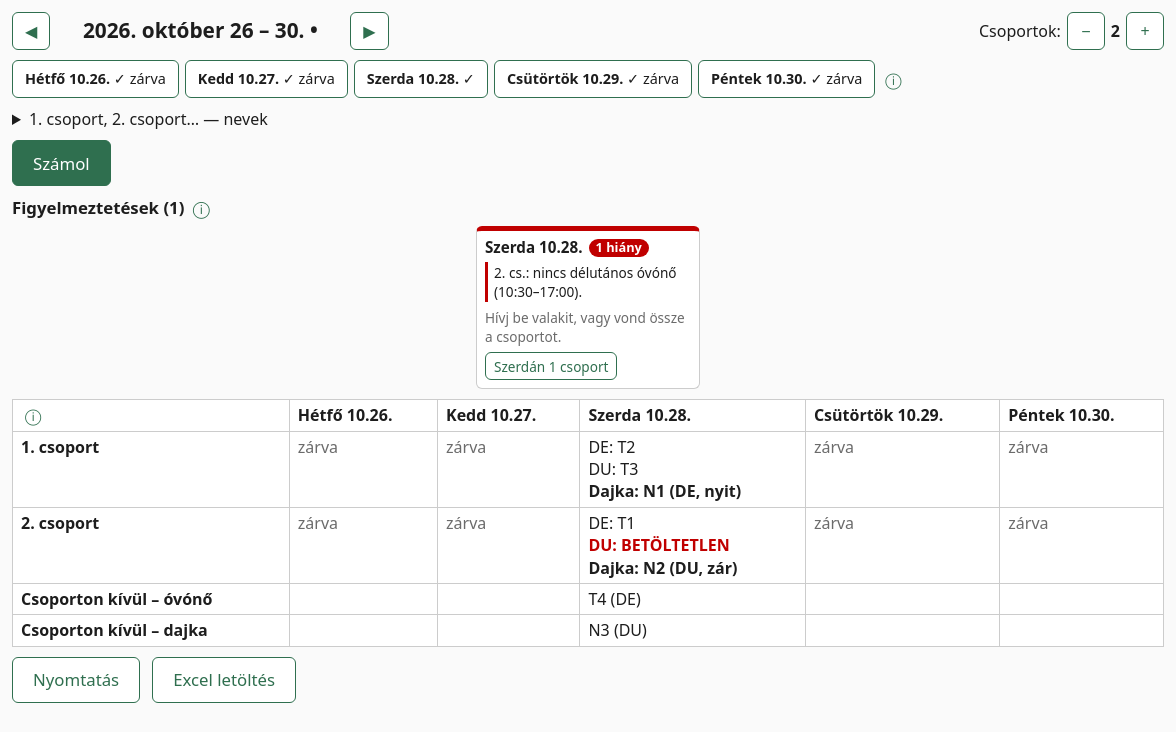
it: RosterScreen swap › floats the pick bar and a refusal in the dock, so the page above the table never moves
Click the text "Dajka: N1 (DE, nyit)" at (665, 492), box [588,480,741,502]
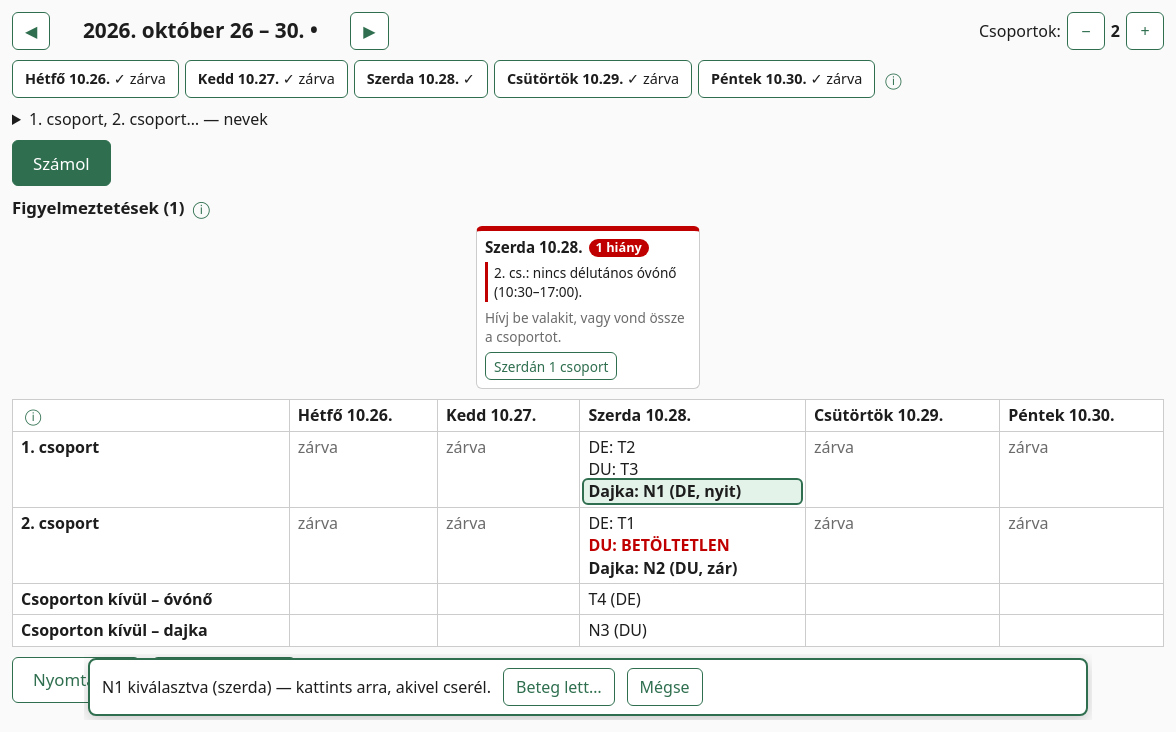
Check: the text "kiválasztva" is shown, box [102,676,491,698]
Click the text "T4 (DE)" at (615, 599), box [588,588,641,610]
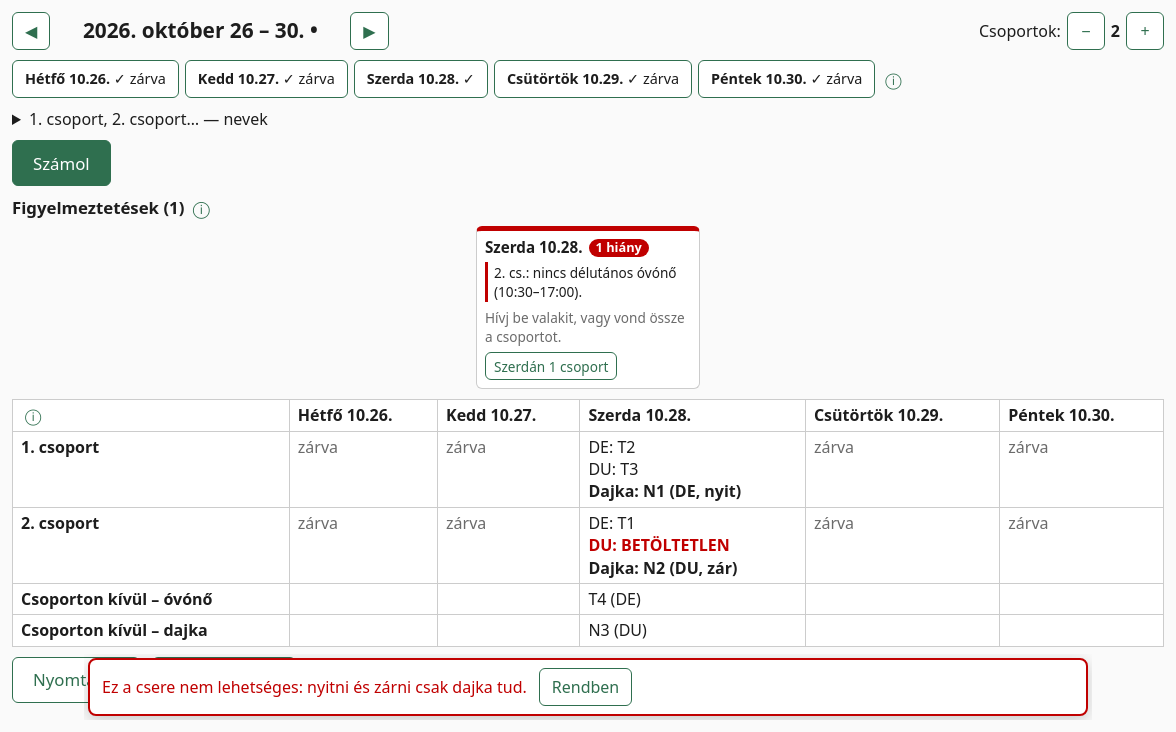
Check: the text "kiválasztva" is shown, box [84,654,1092,720]
Click the button "Rendben" at (586, 687), box [539,668,632,706]
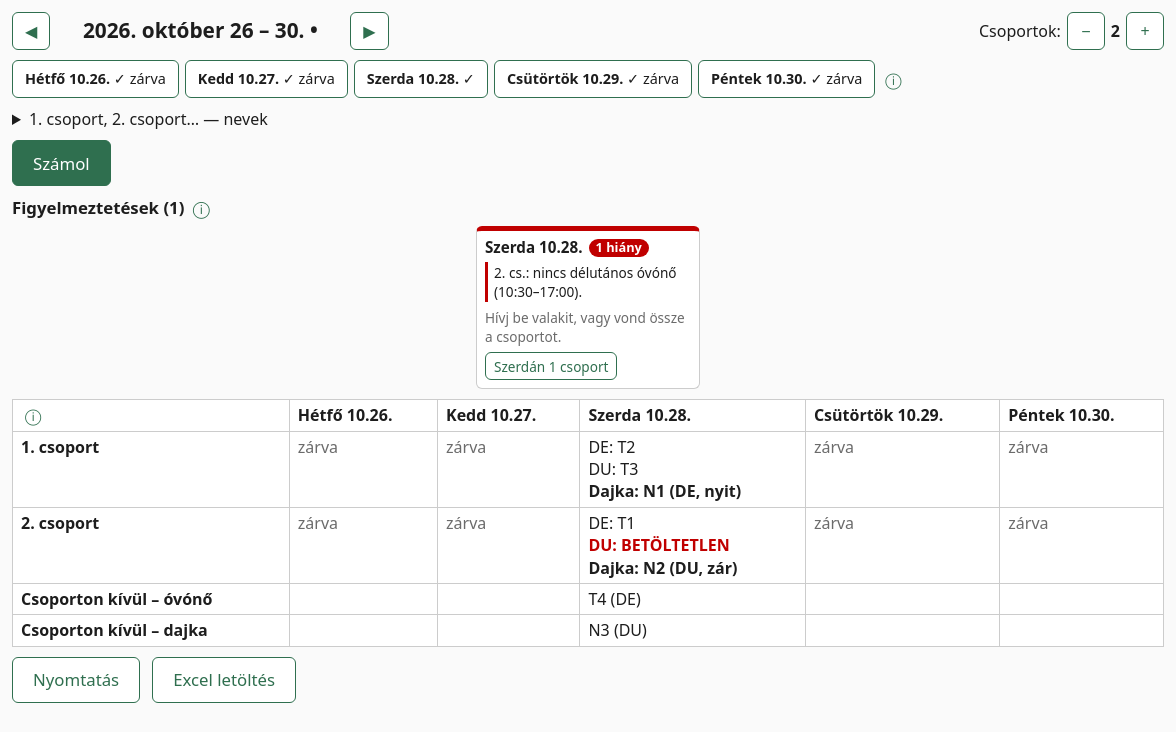
Check: the text "Ez a csere nem lehetséges" is gone
